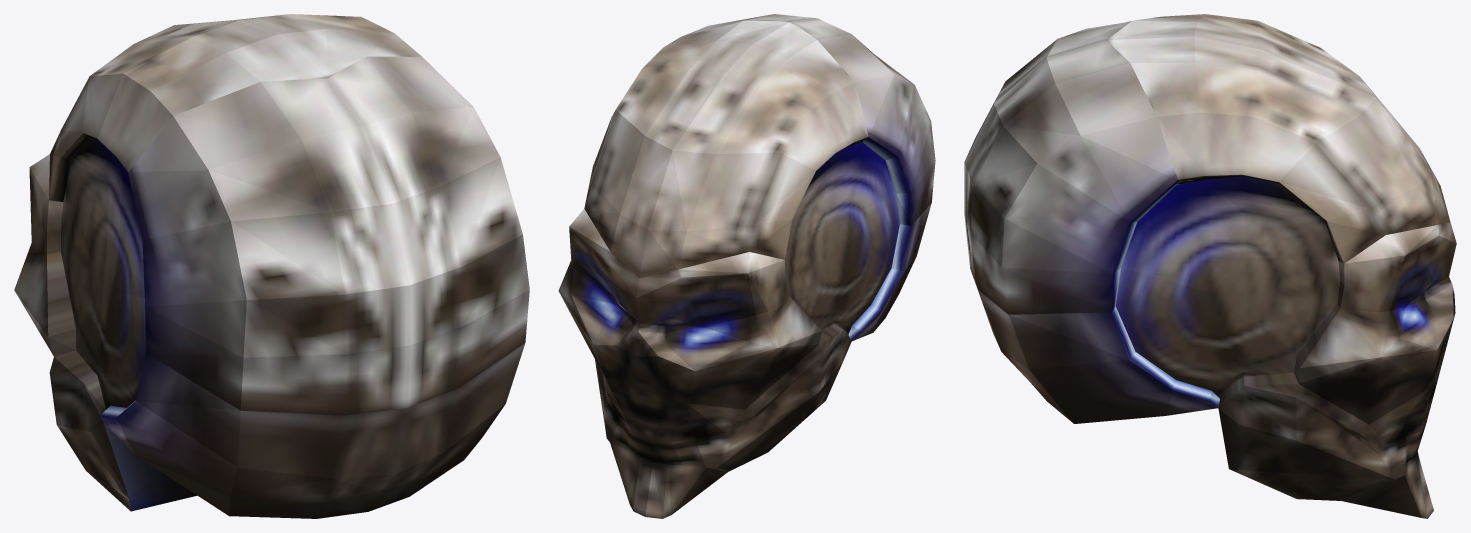
The model's file is T3.ico.obj.
The picture shows the model from 3 angles, left to right: view 1: azimuth 30°, elevation 25°; view 2: azimuth 150°, elevation 25°; view 3: azimuth 270°, elevation 25°; orthographic projection. The views are drawn at different scales.
Size of the model in its own units: 1.47 by 2.21 by 2.1.
Materials: 1 (1 with a texture image).
